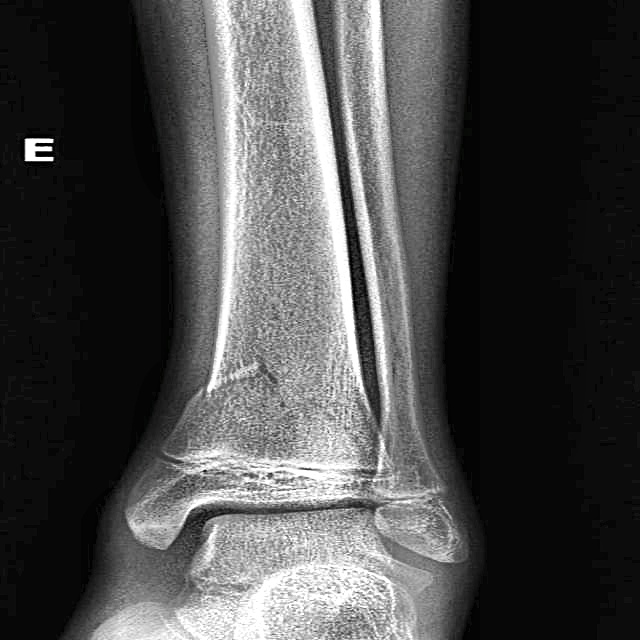Oblique Displaced: (180, 342, 365, 472)
